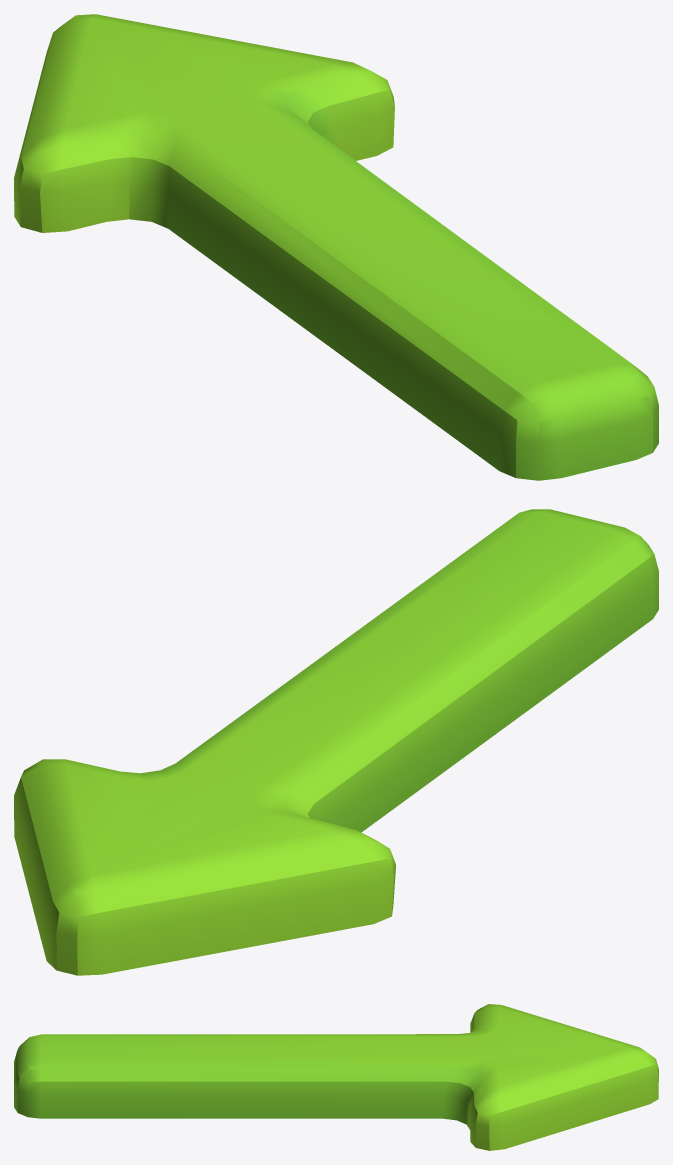
File: ArrowGreen.fbx
3 renders of one model, top to bottom at view 1: azimuth 30°, elevation 25°; view 2: azimuth 150°, elevation 25°; view 3: azimuth 270°, elevation 25°, orthographic. The views are drawn at different scales.
Parts seen in each view (by area): view 1: pCube193; view 2: pCube193; view 3: pCube193.
Part boxes in pixels (bbox=[...]): pCube193: bbox=[14, 14, 658, 480]; pCube193: bbox=[14, 509, 658, 975]; pCube193: bbox=[14, 1004, 658, 1150].
Bounding box in the file's own units: 4.93 × 1 × 12.15.
